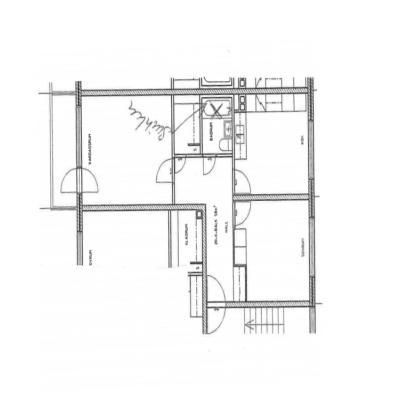bathroom: (201, 91, 234, 154)
door: (203, 267, 228, 332), (60, 165, 101, 197), (203, 307, 230, 340), (230, 168, 254, 198), (79, 163, 100, 197), (230, 201, 253, 230), (154, 158, 176, 184), (201, 152, 218, 177), (172, 151, 189, 174)
perimeter: (79, 92, 314, 306)
window: (305, 115, 317, 184), (73, 102, 84, 169), (306, 214, 317, 280)
